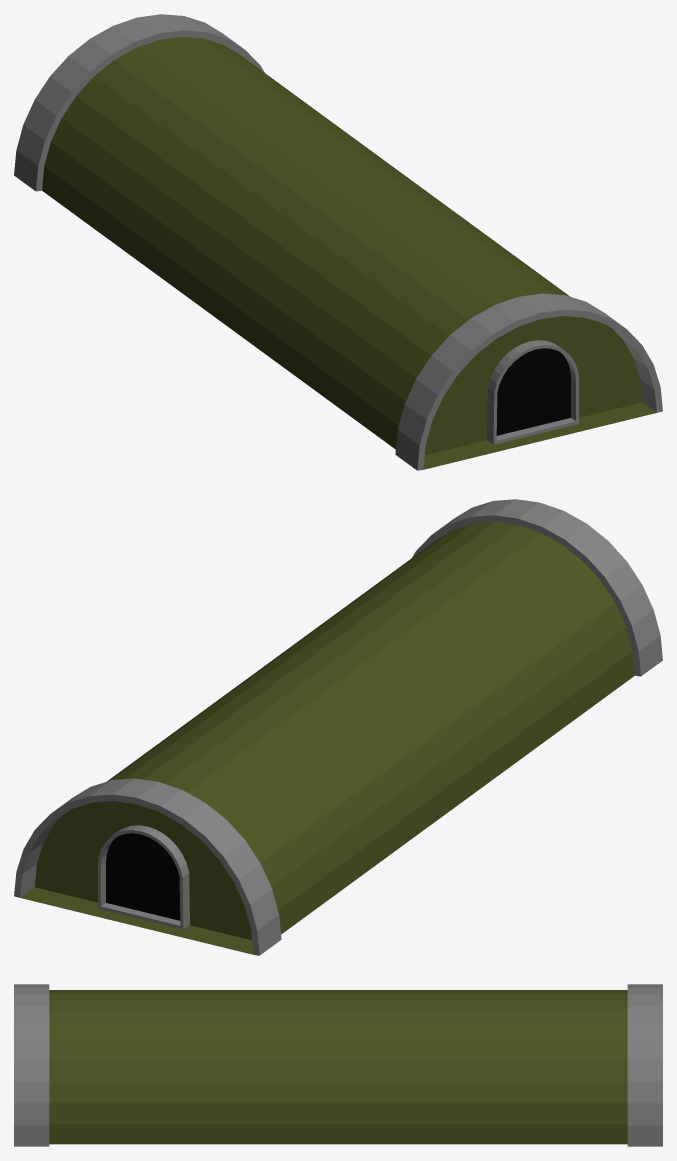
File: MilitaryCylinderTent.fbx
3 views of the same model, one above another, from view 1: azimuth 30°, elevation 25°; view 2: azimuth 150°, elevation 25°; view 3: azimuth 270°, elevation 25° (orthographic). The views are drawn at different scales.
Parts seen in each view (by area): view 1: Cylinder; view 2: Cylinder; view 3: Cylinder.
Boxes of the visible parts, x1=… form: Cylinder: x1=14, y1=14, x2=662, y2=470; Cylinder: x1=14, y1=499, x2=662, y2=955; Cylinder: x1=14, y1=984, x2=662, y2=1146.
Size of the model in its own units: 1406 by 703 by 4000.
